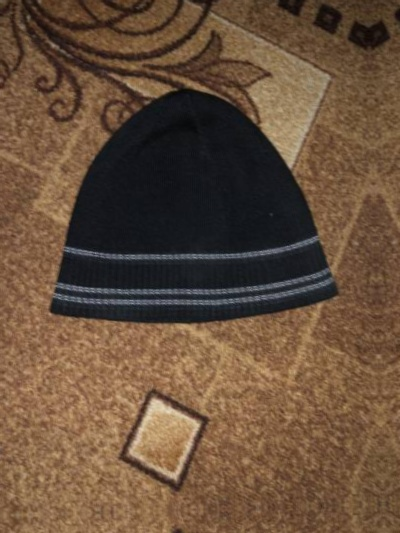Hat: (32, 62, 342, 347)
